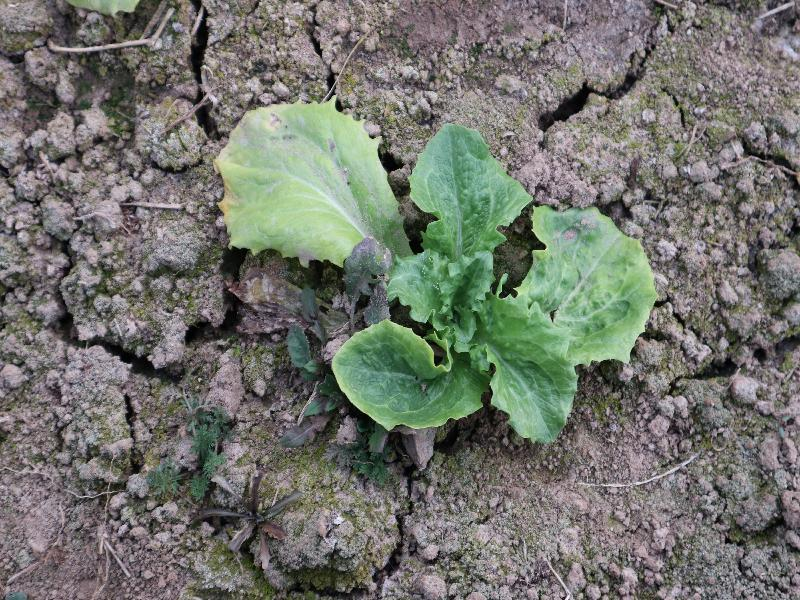lettuce: (212, 95, 657, 445)
